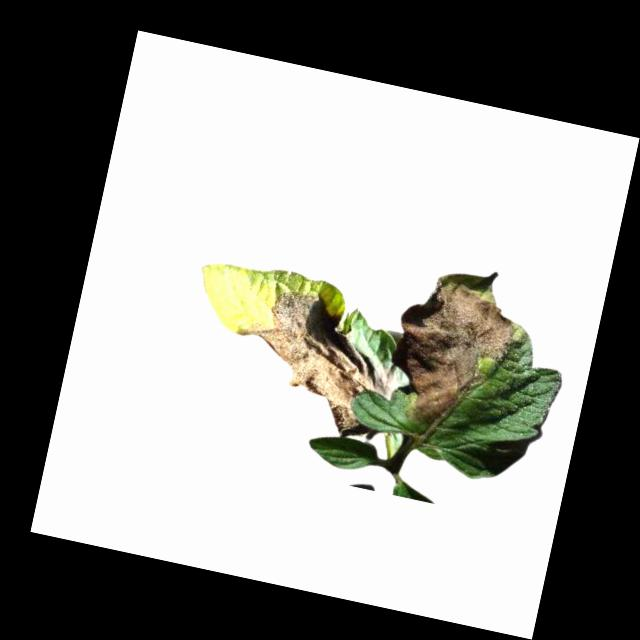Late_blight: (217, 276, 414, 445), (378, 252, 530, 441)
